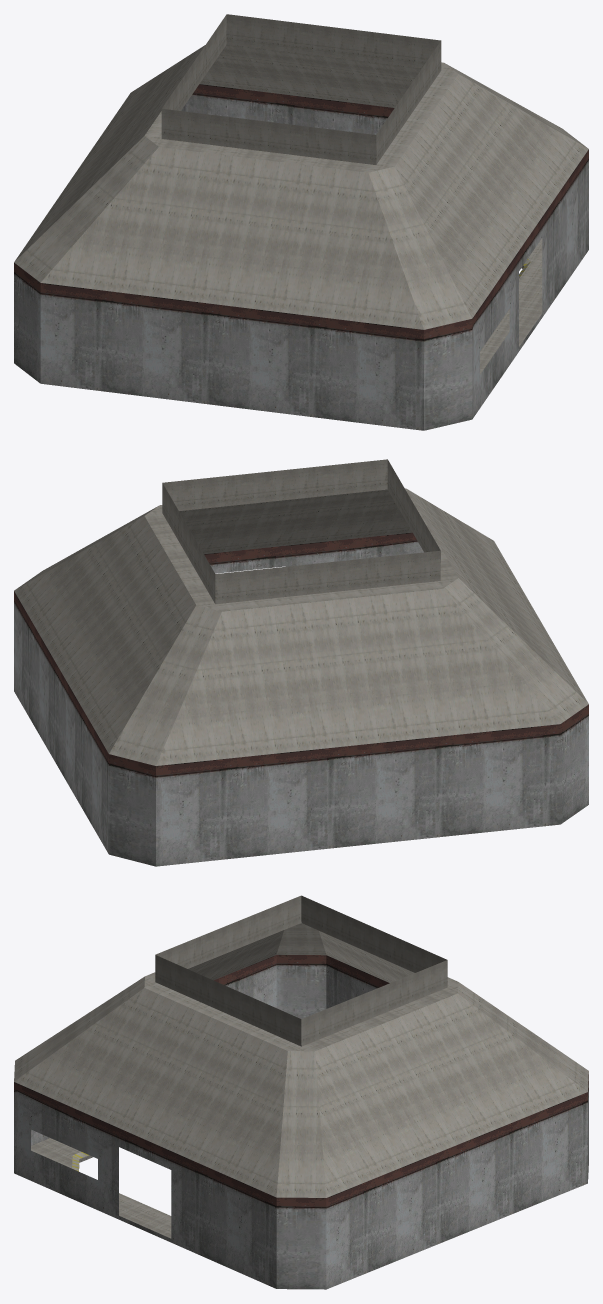
The model's file is a51_jetroom.obj.
The picture shows the model from 3 angles, top to bottom: view 1: azimuth 30°, elevation 25°; view 2: azimuth 150°, elevation 25°; view 3: azimuth 270°, elevation 25°; orthographic projection. The views are drawn at different scales.
Parts seen in each view (by area): view 1: a51_jetroom; view 2: a51_jetroom; view 3: a51_jetroom.
Boxes of the visible parts, x1,y1,x2,y2 form: a51_jetroom: [14, 14, 588, 430]; a51_jetroom: [14, 459, 588, 866]; a51_jetroom: [14, 895, 588, 1289].
Bounding box in the file's own units: 22.8 × 9.51 × 22.78.
4 materials, 4 textured.
